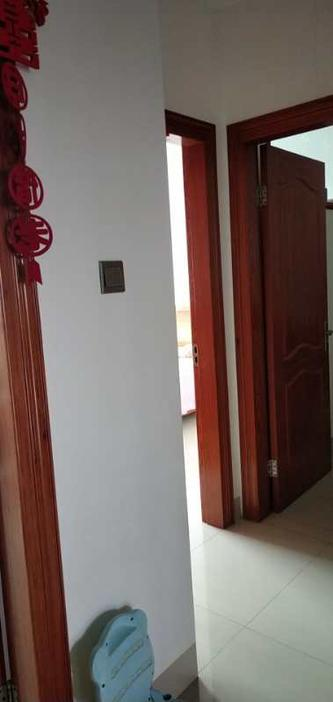switch: (103, 259, 130, 289)
